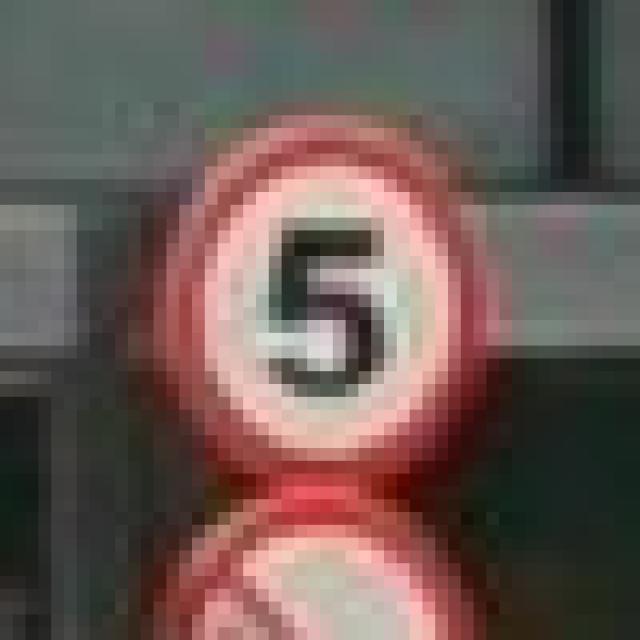speed_limit_20: (128, 90, 486, 487)
